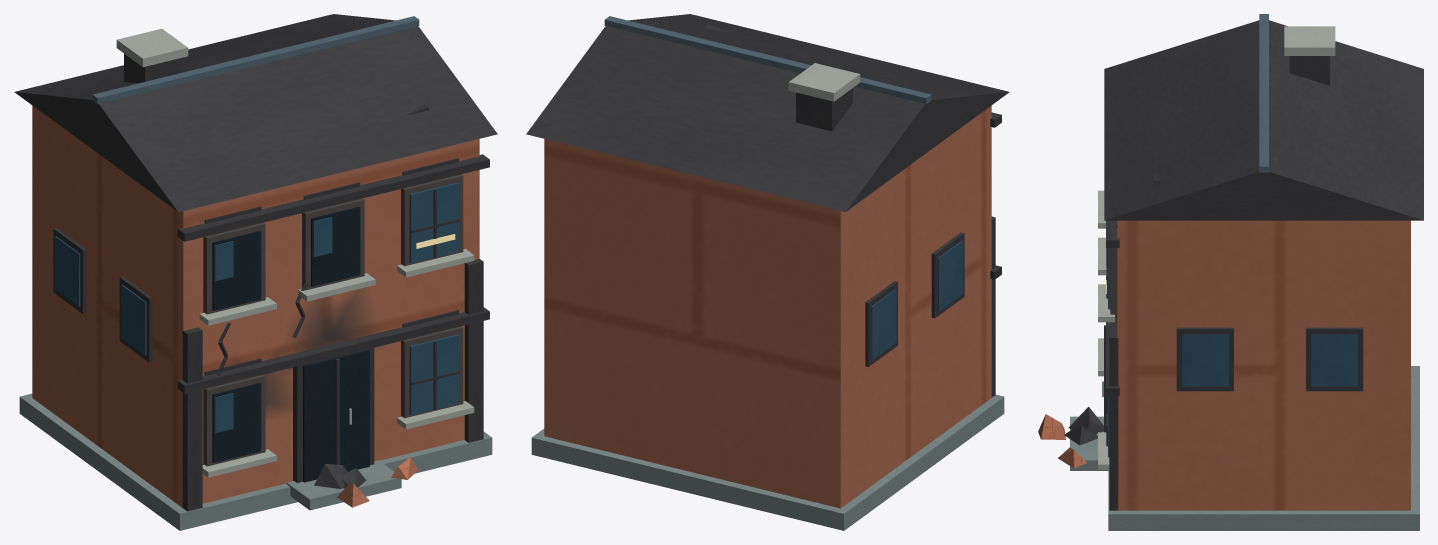
Rendered from row-house-burning-lod.glb.
3 views of the same model, side by side, from view 1: azimuth 30°, elevation 25°; view 2: azimuth 150°, elevation 25°; view 3: azimuth 270°, elevation 25° (orthographic). The views are drawn at different scales.
Visible parts, largest first — view 1: row-house-burning-lod; view 2: row-house-burning-lod; view 3: row-house-burning-lod.
Part boxes in pixels (x1,y1,x2,y2): row-house-burning-lod: (14, 14, 497, 530); row-house-burning-lod: (526, 14, 1009, 530); row-house-burning-lod: (1038, 14, 1423, 530).
Size of the model in its own units: 5.54 by 6.46 by 5.92.
Materials: 5 (5 with a texture image).
